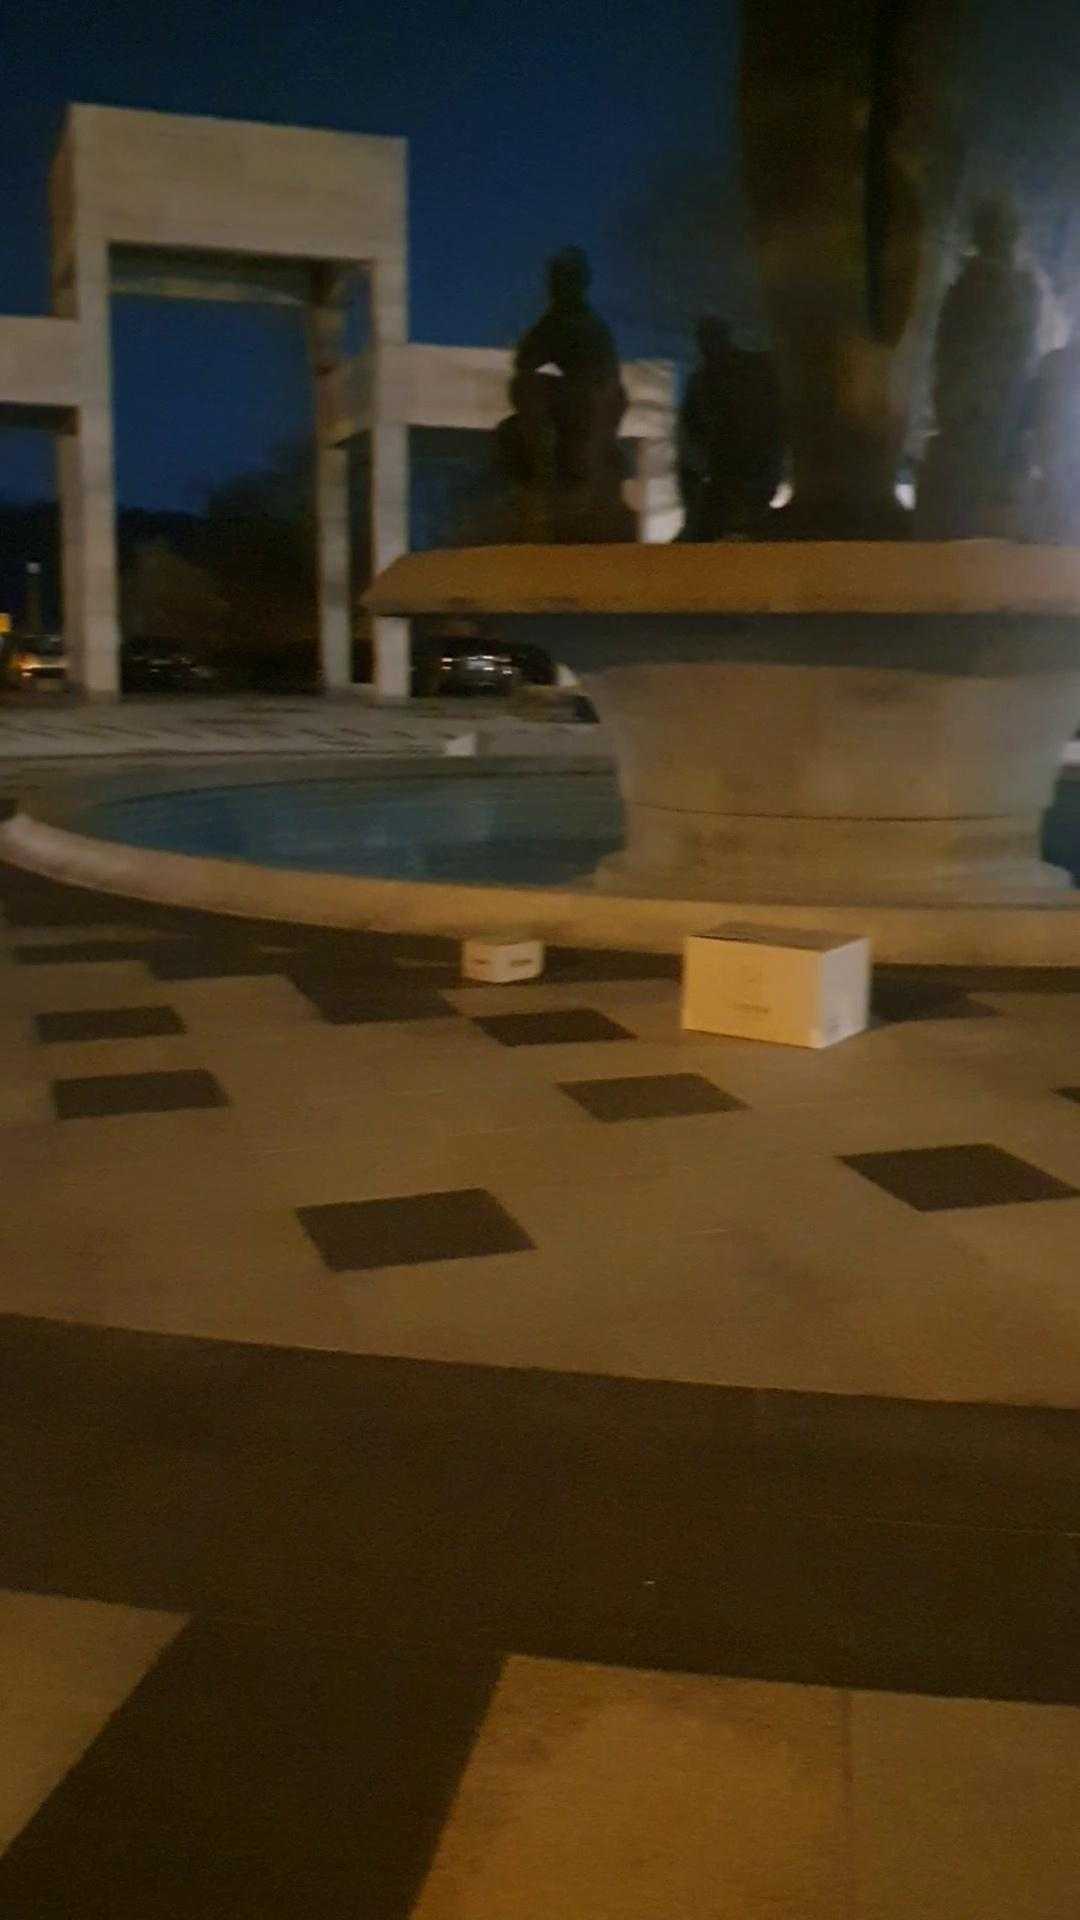Box: (669, 910, 880, 1052), (456, 920, 553, 992)
